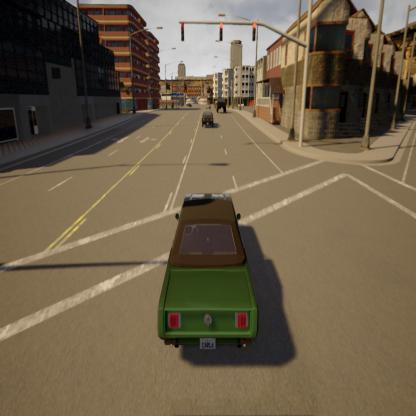Cars: (142, 189, 265, 356), (211, 89, 230, 123), (200, 108, 218, 134)
